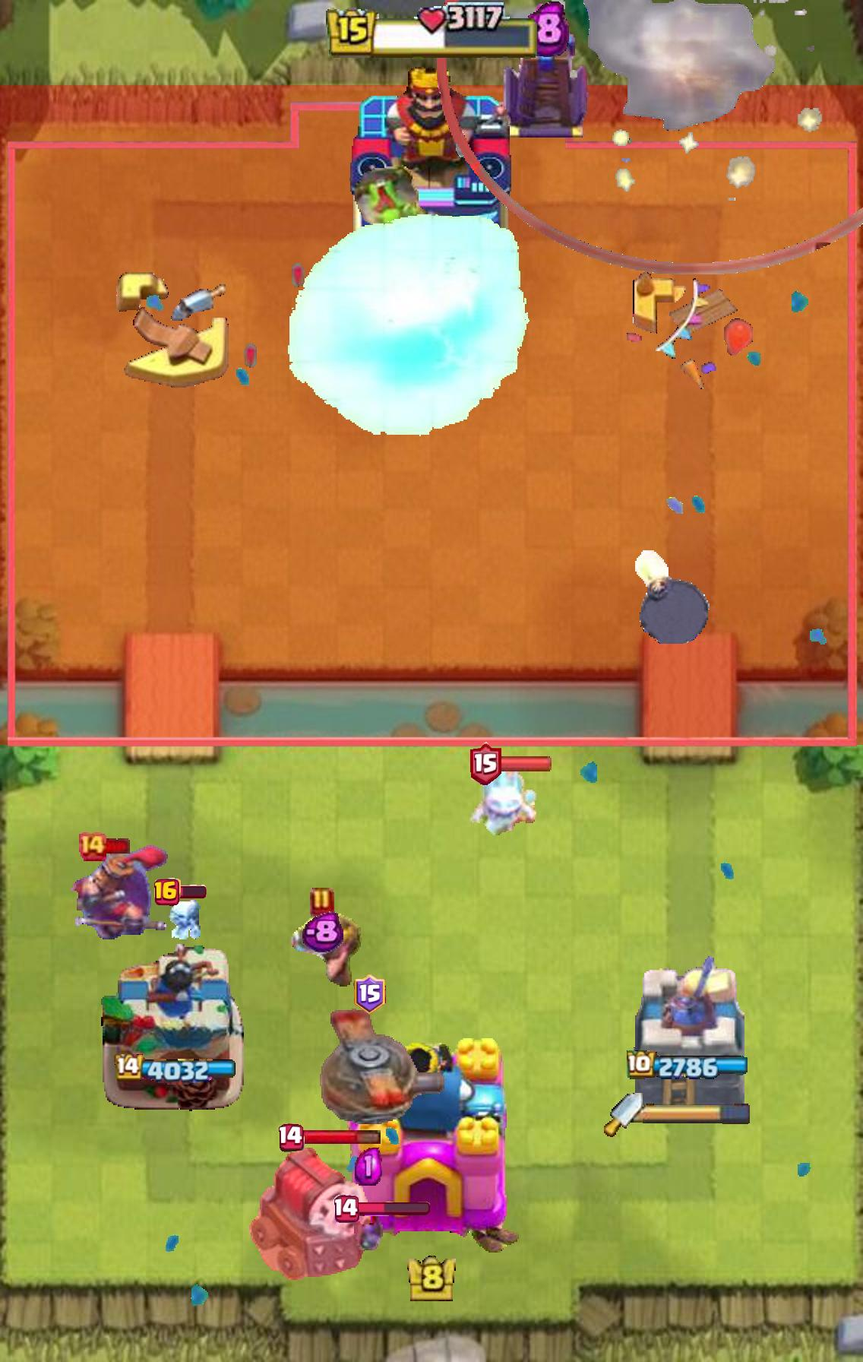elixir: (522, 0, 569, 57), (301, 911, 343, 954), (355, 1148, 382, 1186)
